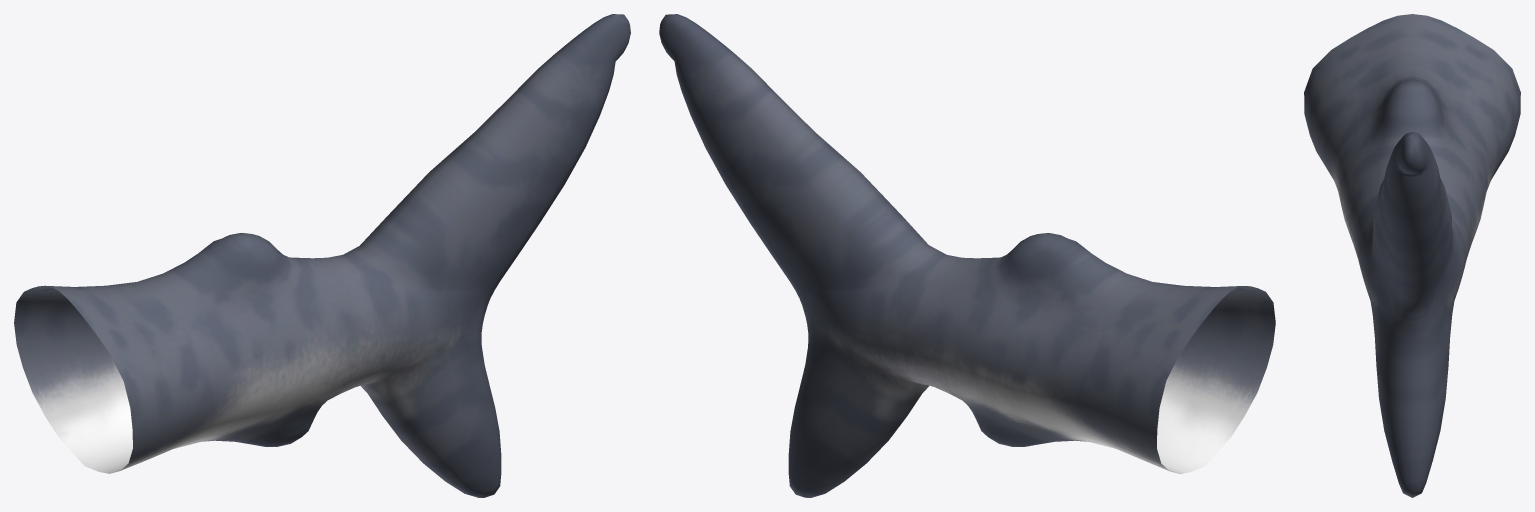
Rendered from colaTiger.obj.
3 views of the same model, side by side, from view 1: azimuth 30°, elevation 25°; view 2: azimuth 150°, elevation 25°; view 3: azimuth 270°, elevation 25° (orthographic). The views are drawn at different scales.
Parts seen in each view (by area): view 1: polySurface2 baby_tiburon:_Tiger_Shark_v1; view 2: polySurface2 baby_tiburon:_Tiger_Shark_v1; view 3: polySurface2 baby_tiburon:_Tiger_Shark_v1.
Boxes of the visible parts, x1,y1,x2,y2 form: polySurface2 baby_tiburon:_Tiger_Shark_v1: (14,14,630,497); polySurface2 baby_tiburon:_Tiger_Shark_v1: (659,14,1275,497); polySurface2 baby_tiburon:_Tiger_Shark_v1: (1304,14,1520,497).
Size of the model in its own units: 3.4 by 2.57 by 1.2.
1 material, 1 textured.
